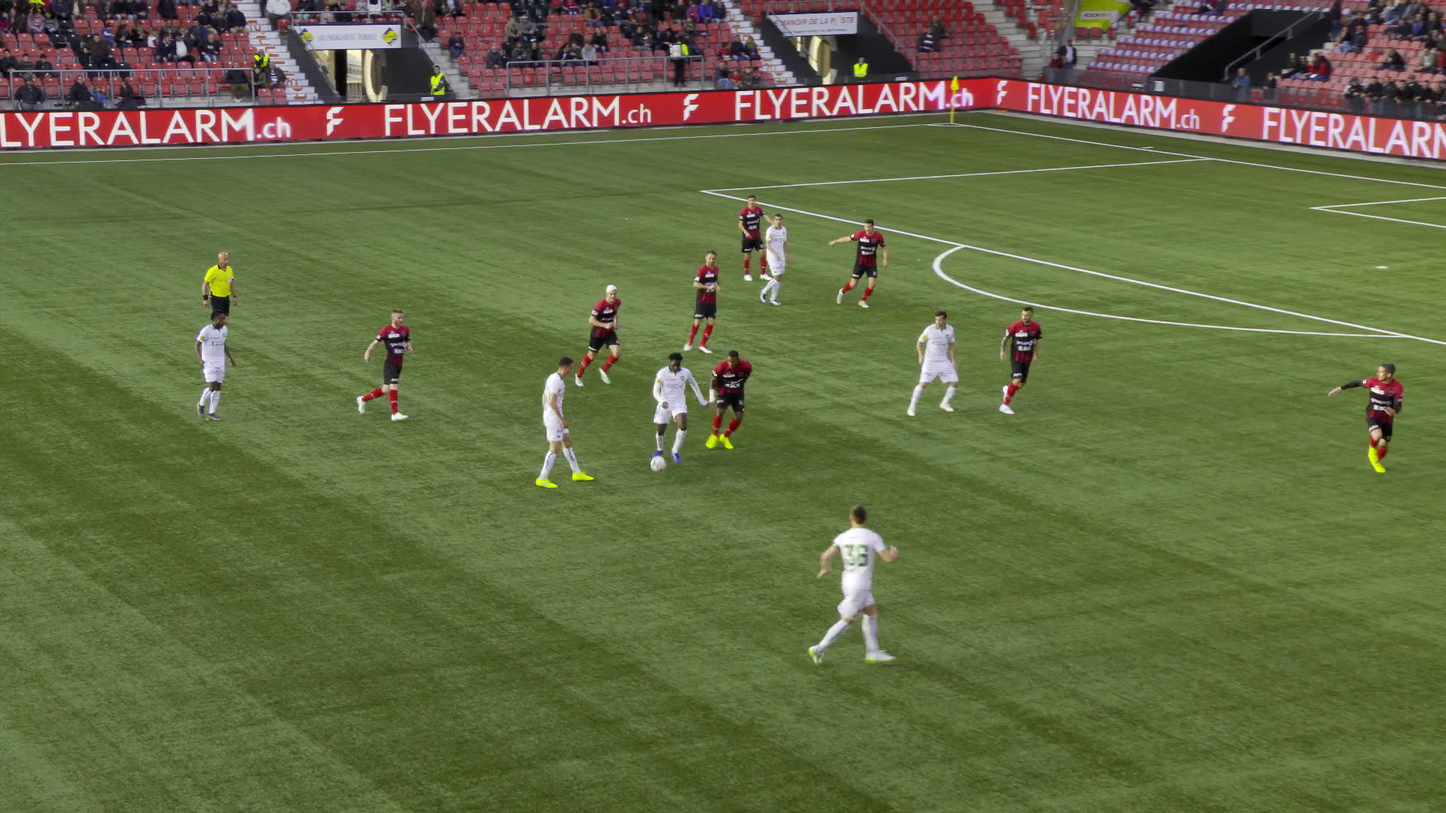ball: (651, 455, 667, 470)
player: (808, 504, 898, 669), (1336, 358, 1406, 473), (530, 358, 585, 489), (643, 353, 705, 462), (355, 309, 411, 423), (191, 309, 239, 424), (911, 309, 962, 417), (572, 283, 624, 388), (831, 219, 891, 307), (996, 307, 1044, 413), (700, 351, 751, 448), (686, 251, 722, 355), (736, 195, 776, 281), (761, 215, 795, 306)
referee: (202, 252, 239, 354)
